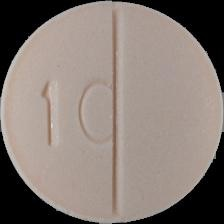54868-5121: (0, 0, 224, 224)
